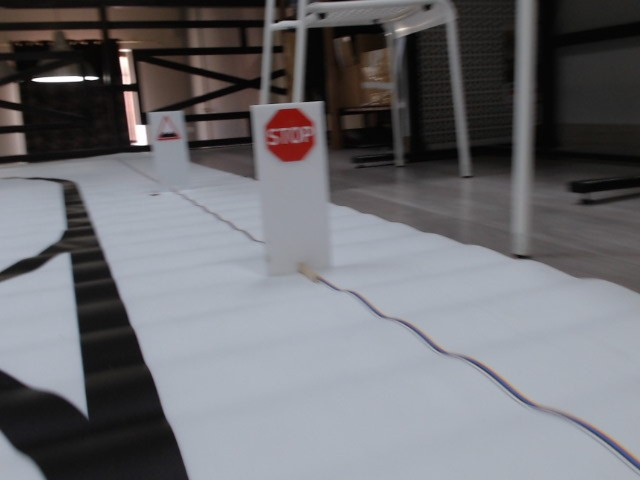Nerov: (155, 114, 183, 146)
Stop: (264, 108, 315, 160)
